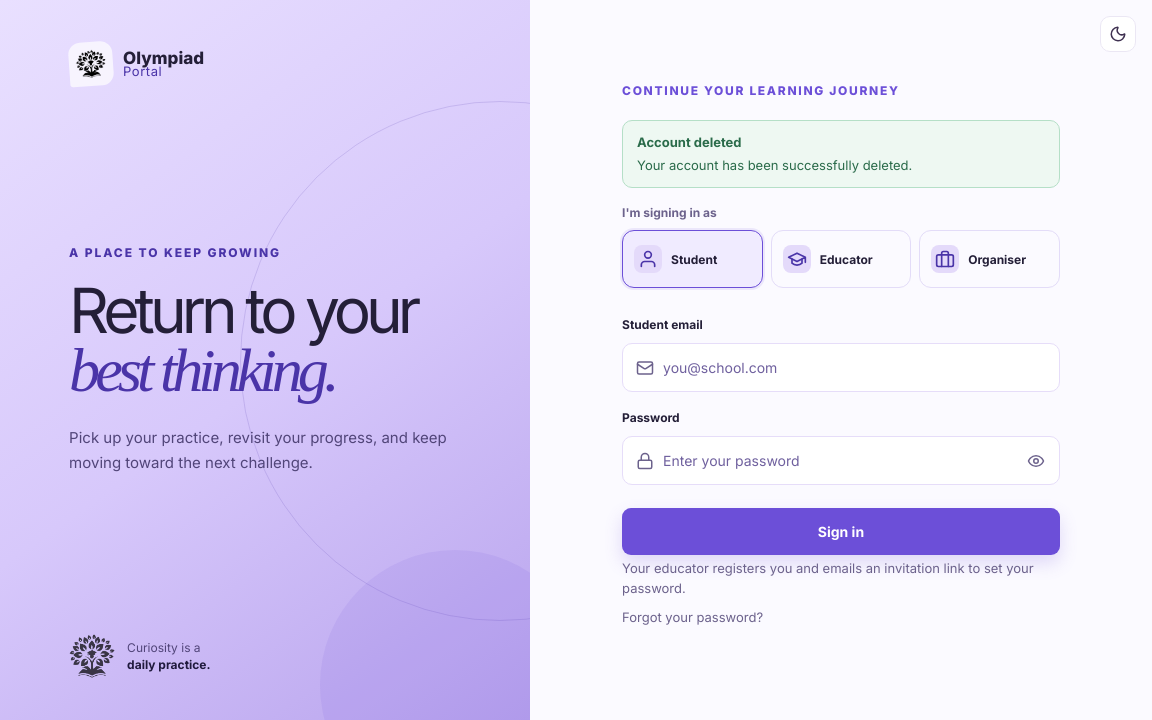
Test: Login page › Query-param banners › hides the deleted banner when the user picks a role
Expected: the message shows "Account deleted", 637,134 -> 742,150
Click the button "Educator" at (841, 259), box 771,230 -> 911,288
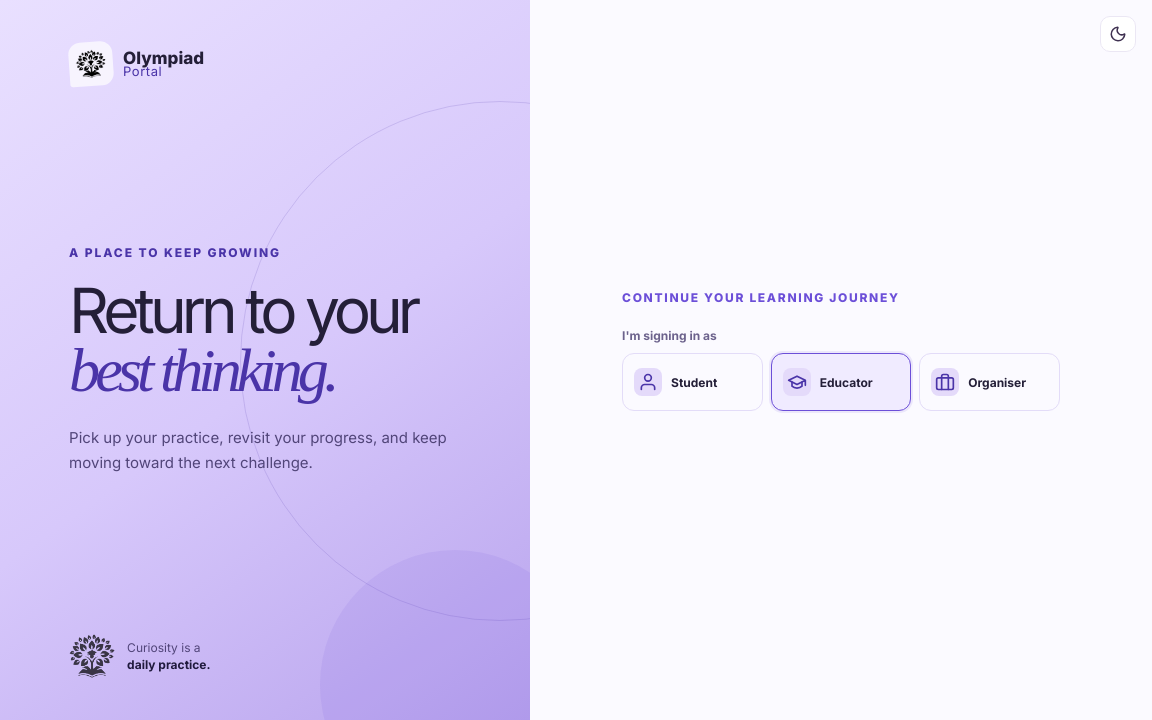
Result: the text "Account deleted" is gone
